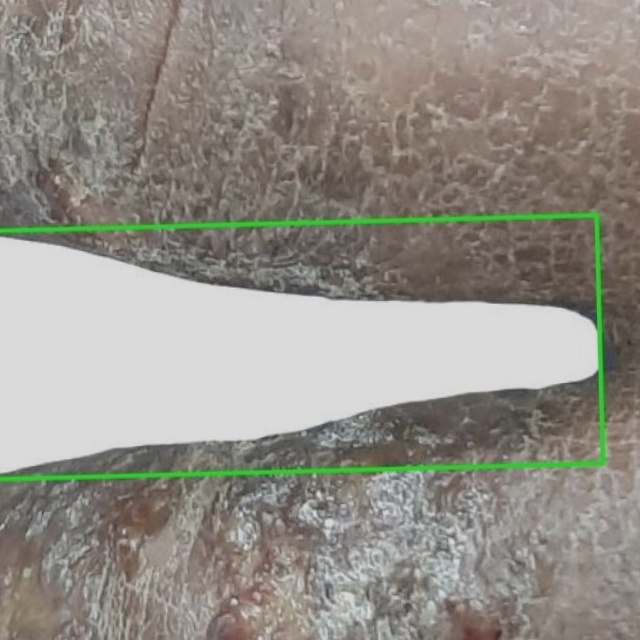Eczema: (0, 215, 602, 479)
